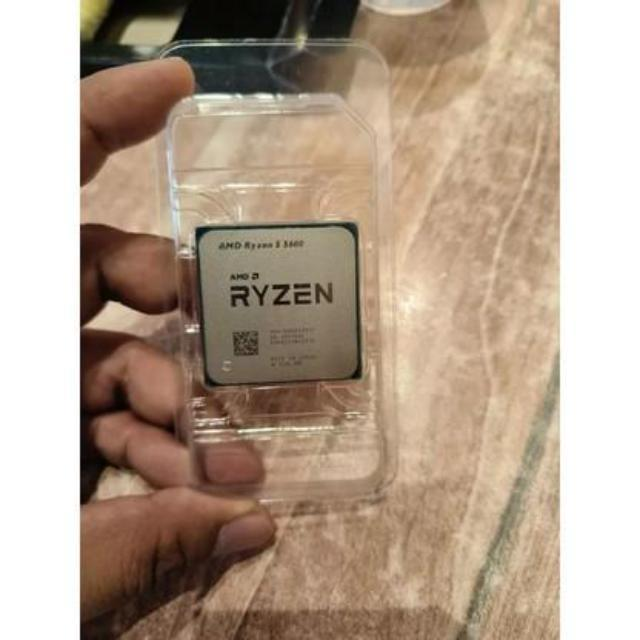CPU: (195, 225, 360, 380)
